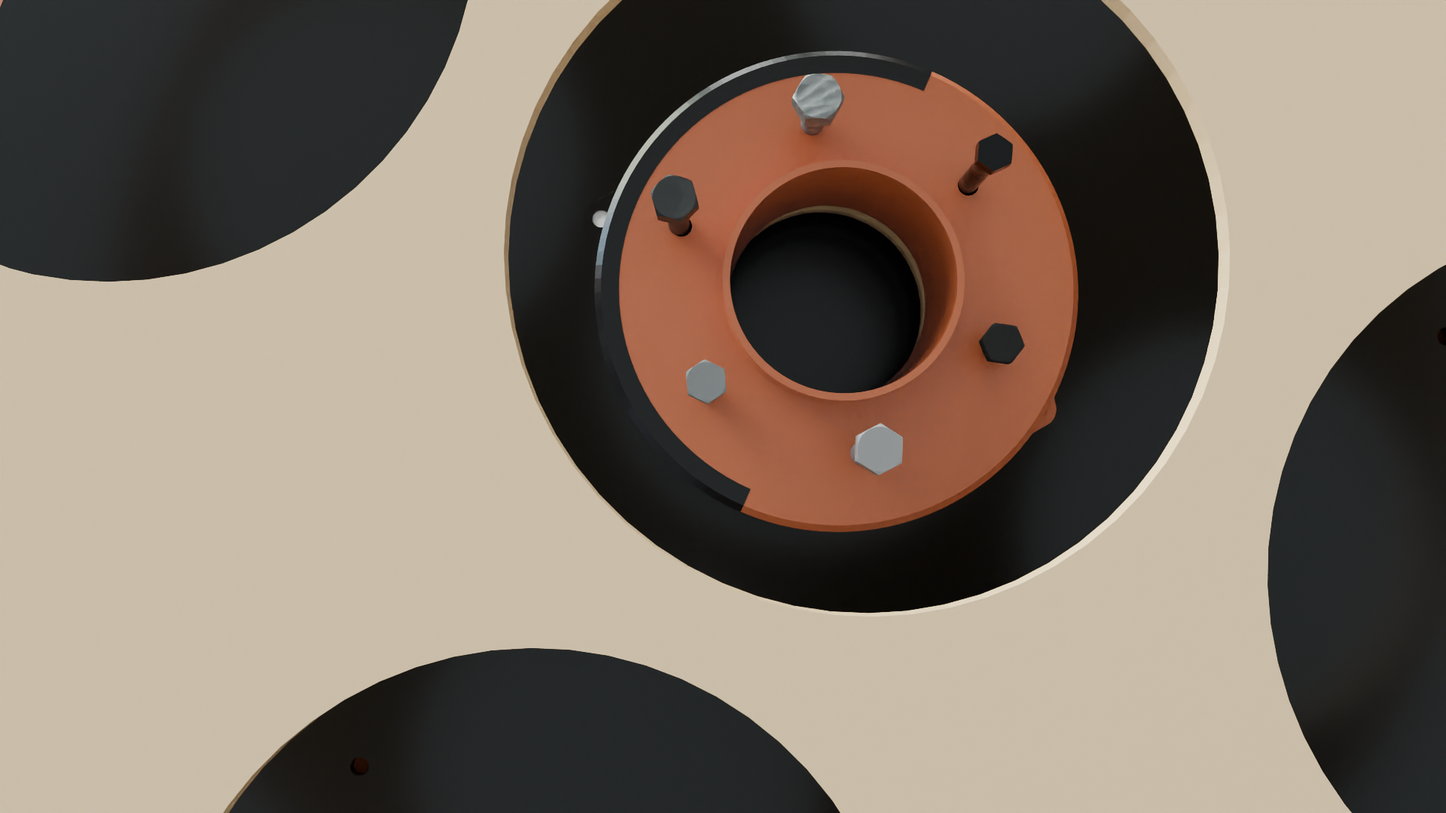bolt: (792, 74, 844, 120), (857, 423, 903, 475), (651, 175, 698, 222), (686, 359, 727, 403), (982, 323, 1025, 363), (978, 133, 1013, 172)
